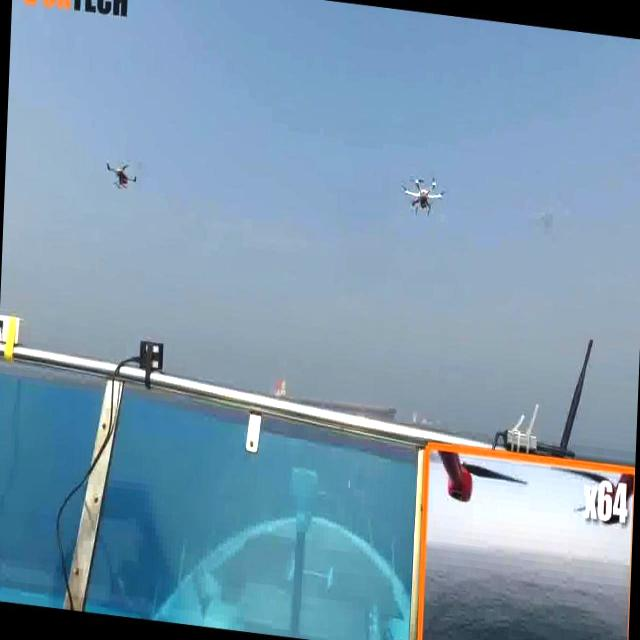drone: (394, 170, 448, 219), (103, 154, 139, 196)
